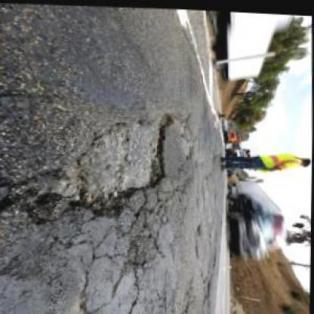Hueco: (70, 106, 178, 221), (0, 164, 66, 225), (177, 114, 196, 156)
